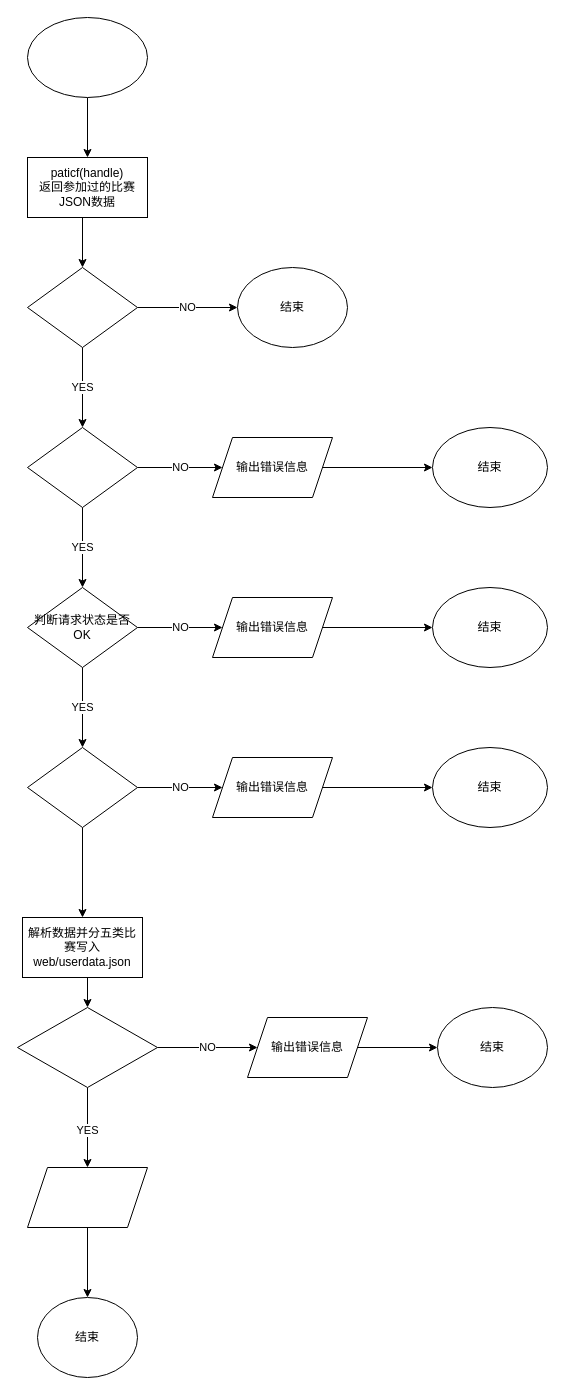
Some shapes in this 565 by 1395 pixel diagram are drawn without their labels. The shapes that lost their labels are listed below. From the top down, each one's centre as x and y in pixels, then its label:
At point (87, 57): "开始".
At point (82, 307): "返回JSON字符串成功？".
At point (82, 467): "解析JSON字符串成功？".
At point (82, 787): "判断JSON数据是不是比赛数组格式".
At point (87, 1047): "文件写入成功?".
At point (87, 1197): "输出成功信息".
